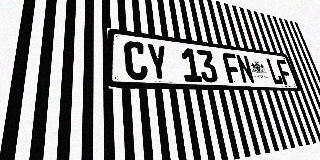1: (179, 47, 202, 82)
3: (196, 49, 219, 83)
C: (124, 40, 149, 80)
F: (222, 52, 243, 84), (275, 59, 294, 85)
L: (265, 58, 284, 85)
N: (235, 54, 256, 84)
Y: (146, 43, 170, 81)
